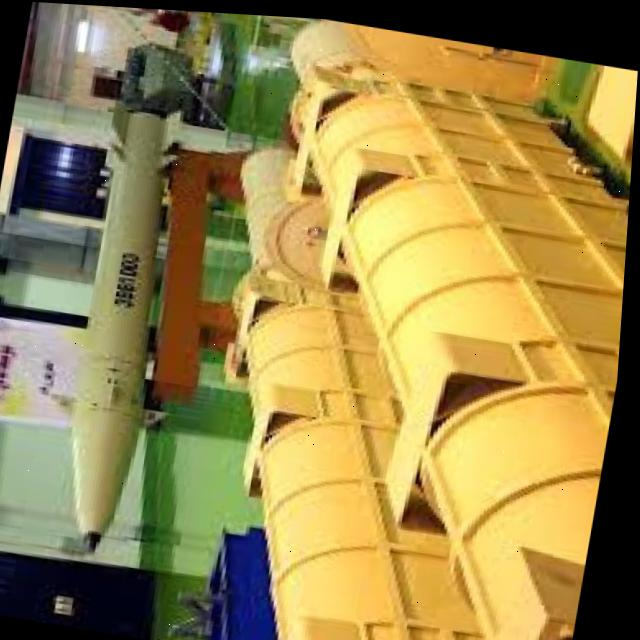missile: (41, 86, 193, 560)
